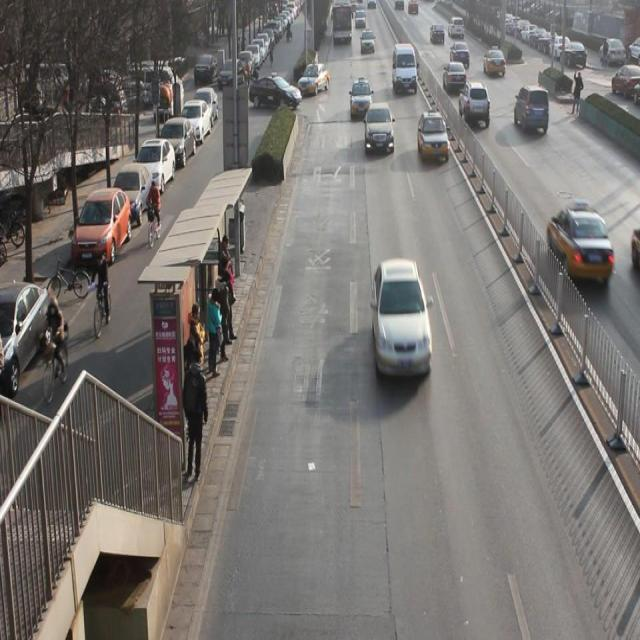car: (370, 261, 436, 381), (548, 205, 613, 284), (512, 86, 551, 138), (418, 111, 450, 168), (459, 80, 490, 132), (365, 108, 395, 156), (304, 61, 329, 97), (351, 78, 372, 120), (484, 45, 508, 78), (444, 61, 467, 92), (450, 40, 471, 69), (359, 29, 377, 58)
truck: (393, 46, 420, 98)
